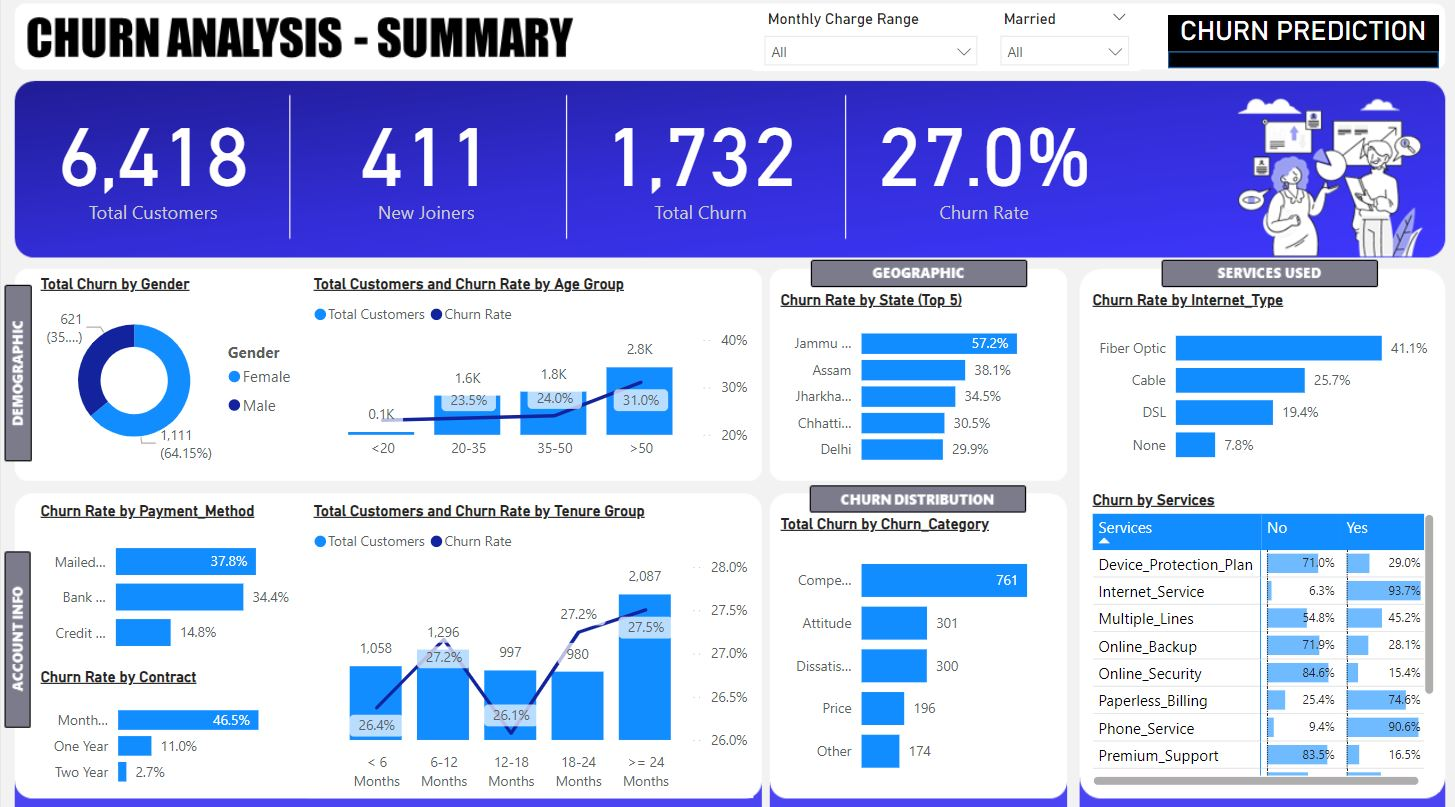

The page's visual inventory and layout, read from the dashboard file:
{"tool":"powerbi","page":{"name":"Summary","canvas":[1280,720],"ordinal":0},"visuals":[{"type":"card","fields":{"Values":["tbl_Measures.Total Customers"]},"box":[20.6,79.8,226.8,127.3],"z":0},{"type":"card","fields":{"Values":["tbl_Measures.Total Churn"]},"box":[504.6,79.8,218.7,127.3],"z":1000},{"type":"card","fields":{"Values":["tbl_Measures.New Joiners"]},"box":[261.7,79.8,223.2,127.3],"z":2000},{"type":"card","fields":{"Values":["tbl_Measures.Churn Rate"]},"box":[750.3,79.8,226.8,127.3],"z":3000},{"type":"donutChart","fields":{"Category":["ProdTable.Gender"],"Y":["tbl_Measures.Total Churn"]},"box":[29.6,247.4,240.2,170.3],"z":4000},{"type":"lineStackedColumnComboChart","fields":{"Category":["mapping_AgeGrp.Age Group"],"Y":["tbl_Measures.Total Customers"],"Y2":["tbl_Measures.Churn Rate"]},"box":[269.8,247.4,390.8,170.3],"z":5000},{"type":"clusteredBarChart","fields":{"Category":["ProdTable.Payment_Method"],"Y":["tbl_Measures.Churn Rate"]},"box":[29.6,447.3,232.2,145.2],"z":6000},{"type":"clusteredBarChart","fields":{"Category":["ProdTable.Contract"],"Y":["tbl_Measures.Churn Rate"]},"box":[29.6,592.5,240.2,114.7],"z":7000},{"type":"lineStackedColumnComboChart","fields":{"Category":["mapping_TenureGrp.Tenure Group"],"Y":["tbl_Measures.Total Customers"],"Y2":["tbl_Measures.Churn Rate"]},"box":[269.8,447.3,390.8,259.9],"z":8000},{"type":"clusteredBarChart","title":"Churn Rate by State (Top 5)","fields":{"Category":["ProdTable.State"],"Y":["tbl_Measures.Churn Rate"]},"box":[679.4,261.7,251,163.1],"z":9000},{"type":"clusteredBarChart","fields":{"Category":["ProdTable.Churn_Category"],"Y":["tbl_Measures.Total Churn"]},"box":[679.4,458,251,242.9],"z":10000},{"type":"clusteredBarChart","fields":{"Category":["ProdTable.Internet_Type"],"Y":["tbl_Measures.Churn Rate"]},"box":[953.7,261.7,310.1,163.1],"z":11000},{"type":"pivotTable","title":"Churn by Services","fields":{"Rows":["Prod_Services.Services"],"Columns":["Prod_Services.Status"],"Values":["Sum(Prod_Services.Churn Status)"]},"box":[953.7,437.4,310.1,263.5],"z":12000},{"type":"slicer","fields":{"Values":["ProdTable.Monthly Charge Status"]},"box":[660.6,10.8,207.1,58.3],"z":13000},{"type":"slicer","fields":{"Values":["ProdTable.Married"]},"box":[867.7,10.8,132.7,58.3],"z":14000},{"type":"shape","title":"CHURN PREDICTION","box":[1024.4,18.9,237.8,46.7],"z":15000}]}

Visuals, with their boxes in screenshot pixels (x1, y1, x2, y2), scaled from the page's 1280x720 canvas onto the 1455x807 screenshot:
card - tbl_Measures.Total Customers: box(23, 89, 281, 232)
card - tbl_Measures.Total Churn: box(574, 89, 822, 232)
card - tbl_Measures.New Joiners: box(297, 89, 551, 232)
card - tbl_Measures.Churn Rate: box(853, 89, 1111, 232)
donutChart - ProdTable.Gender x tbl_Measures.Total Churn: box(34, 277, 307, 468)
lineStackedColumnComboChart - mapping_AgeGrp.Age Group x tbl_Measures.Total Customers: box(307, 277, 751, 468)
clusteredBarChart - ProdTable.Payment_Method x tbl_Measures.Churn Rate: box(34, 501, 298, 664)
clusteredBarChart - ProdTable.Contract x tbl_Measures.Churn Rate: box(34, 664, 307, 793)
lineStackedColumnComboChart - mapping_TenureGrp.Tenure Group x tbl_Measures.Total Customers: box(307, 501, 751, 793)
"Churn Rate by State (Top 5)" clusteredBarChart: box(772, 293, 1058, 476)
clusteredBarChart - ProdTable.Churn_Category x tbl_Measures.Total Churn: box(772, 513, 1058, 786)
clusteredBarChart - ProdTable.Internet_Type x tbl_Measures.Churn Rate: box(1084, 293, 1437, 476)
"Churn by Services" pivotTable: box(1084, 490, 1437, 786)
slicer - ProdTable.Monthly Charge Status: box(751, 12, 986, 77)
slicer - ProdTable.Married: box(986, 12, 1137, 77)
"CHURN PREDICTION" shape: box(1164, 21, 1435, 74)
